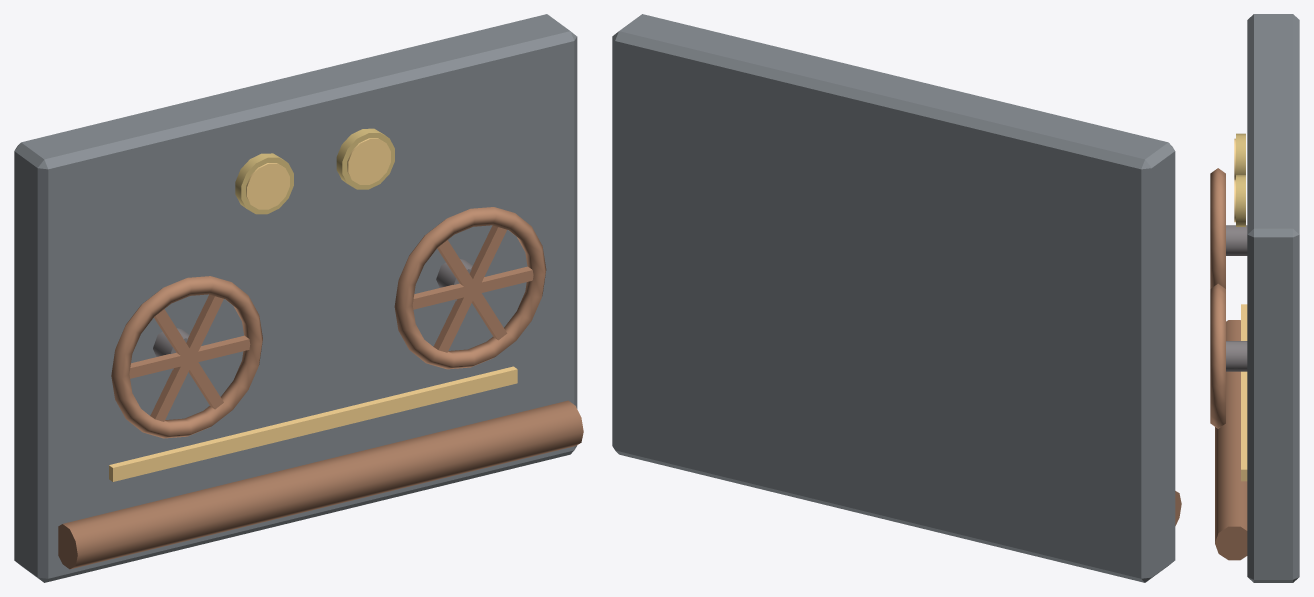
File: valve_panel.glb
The picture shows the model from 3 angles, left to right: view 1: azimuth 30°, elevation 25°; view 2: azimuth 150°, elevation 25°; view 3: azimuth 270°, elevation 25°; orthographic projection. The views are drawn at different scales.
Parts seen in each view (by area): view 1: steel*0.8, rust*0.8, rust.004, rust, lit.002, rust.006, rust.002, rust.001, rust.005, lit, lit.001, rust.007 (+3 smaller); view 2: steel*0.8; view 3: steel*0.8, rust*0.8, rust.004, rust, lit.002, iron.001, iron, brass.001, brass.
Boxes of the visible parts, x1,y1,x2,y2 form: steel*0.8: (14,14,577,582); rust*0.8: (58,400,583,569); rust.004: (394,207,546,369); rust: (111,276,262,438); lit.002: (109,366,517,481); rust.006: (433,225,506,352); rust.002: (150,294,223,421); rust.001: (129,335,250,378); rust.005: (412,266,533,309); lit: (246,163,289,209); lit.001: (347,138,390,184); rust.007: (437,240,507,340); steel*0.8: (612,14,1175,582); steel*0.8: (1247,14,1299,582); rust*0.8: (1215,320,1247,560); rust.004: (1210,283,1225,428); rust: (1210,168,1225,288); lit.002: (1241,304,1247,481); iron.001: (1226,341,1247,371); iron: (1226,225,1247,255); brass.001: (1236,175,1245,226); brass: (1236,133,1245,174).
Size of the model in its own units: 1.6 by 1.2 by 0.2738.
